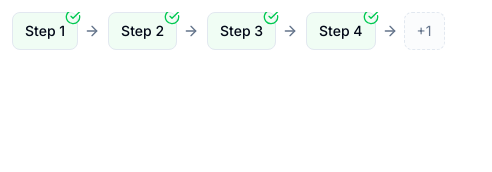
it: ProcessFlowPreview › tooltips › should use singular form for 1 more step
Step 1. Hover over the text "+1" → point(424, 31), box [404,12,445,50]
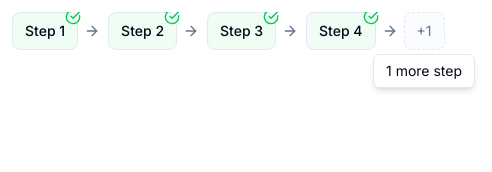
Expected: the tooltip reads "1 more step", [373,54,475,88]
